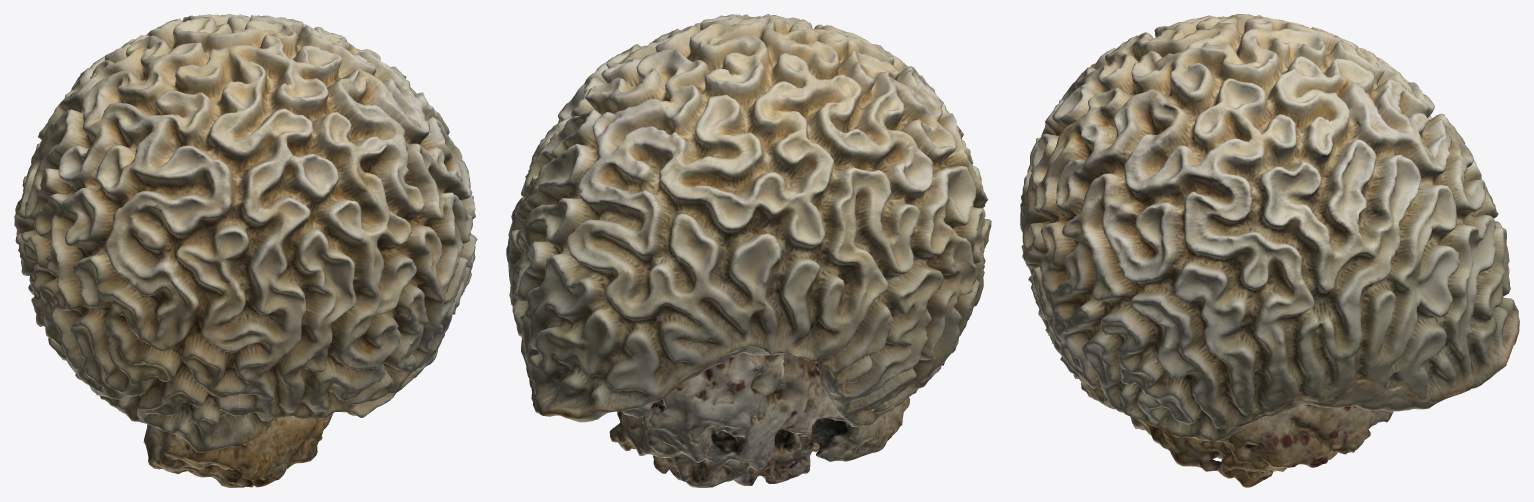
File: diploria_labyrinthiformis.glb
3 views of the same model, side by side, from view 1: azimuth 30°, elevation 25°; view 2: azimuth 150°, elevation 25°; view 3: azimuth 270°, elevation 25° (orthographic). The views are drawn at different scales.
Parts seen in each view (by area): view 1: Object_4; view 2: Object_4; view 3: Object_4.
Boxes of the visible parts, x1,y1,x2,y2 form: Object_4: [14, 14, 477, 487]; Object_4: [506, 14, 991, 487]; Object_4: [1020, 14, 1519, 487].
Bounding box in the file's own units: 0.1001 × 0.1004 × 0.1077.
Materials: 1 (1 with a texture image).
